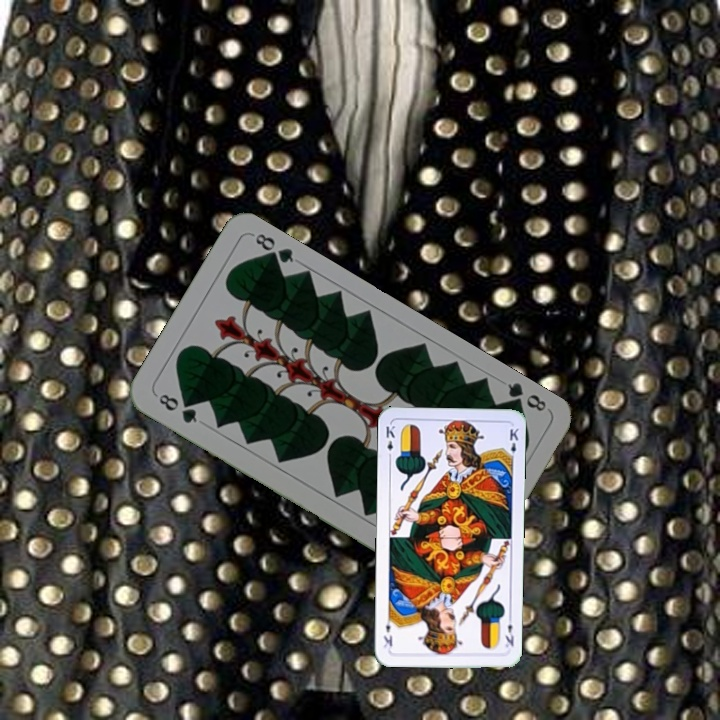EK: (382, 422, 398, 462), (501, 612, 516, 650)
G8: (154, 389, 200, 426), (502, 378, 549, 414)
